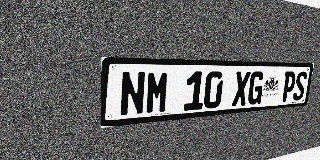0: (203, 71, 224, 109)
1: (184, 71, 206, 111)
G: (247, 71, 265, 105)
M: (145, 71, 170, 115)
N: (119, 71, 146, 117)
P: (281, 71, 297, 102)
S: (292, 72, 308, 101)
X: (232, 71, 251, 106)
